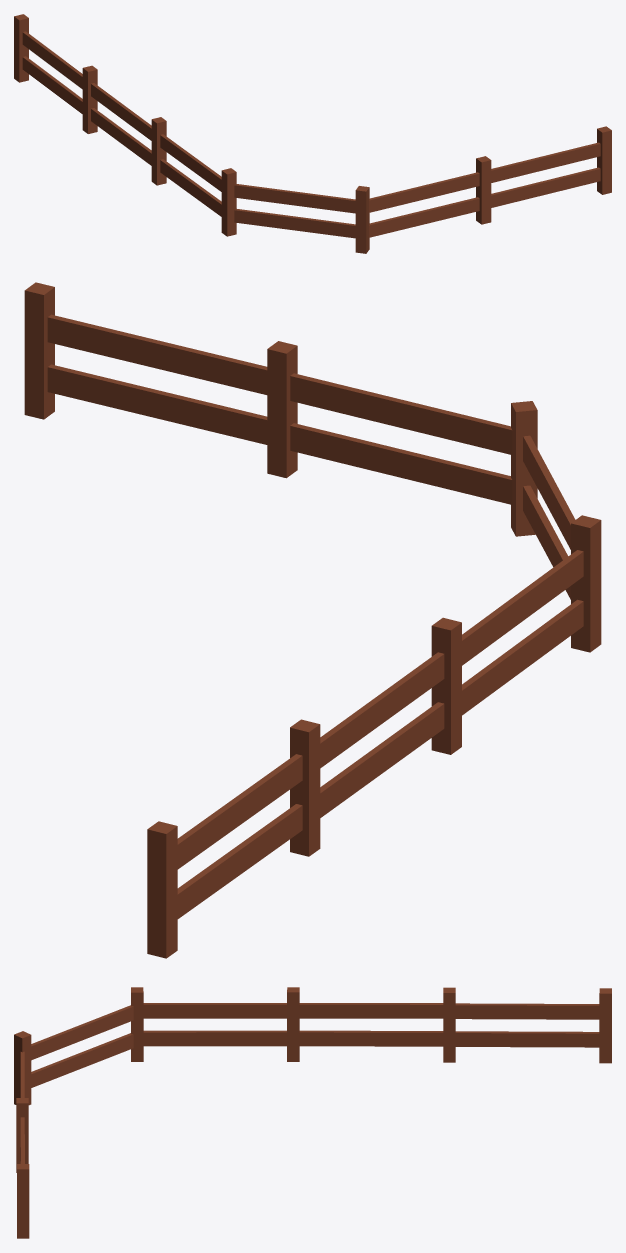
File: Zaun_Saloon.fbx
3 renders of one model, top to bottom at view 1: azimuth 30°, elevation 25°; view 2: azimuth 150°, elevation 25°; view 3: azimuth 270°, elevation 25°, orthographic. The views are drawn at different scales.
Parts seen in each view (by area): view 1: Zaun Ende.005; view 2: Zaun Ende.005; view 3: Zaun Ende.005.
Part boxes in pixels (left/top/right/bottom): Zaun Ende.005: left=14, top=14, right=611, bottom=253; Zaun Ende.005: left=24, top=282, right=601, bottom=958; Zaun Ende.005: left=14, top=987, right=611, bottom=1238.
Bounding box in the file's own units: 525 × 93.46 × 728.
